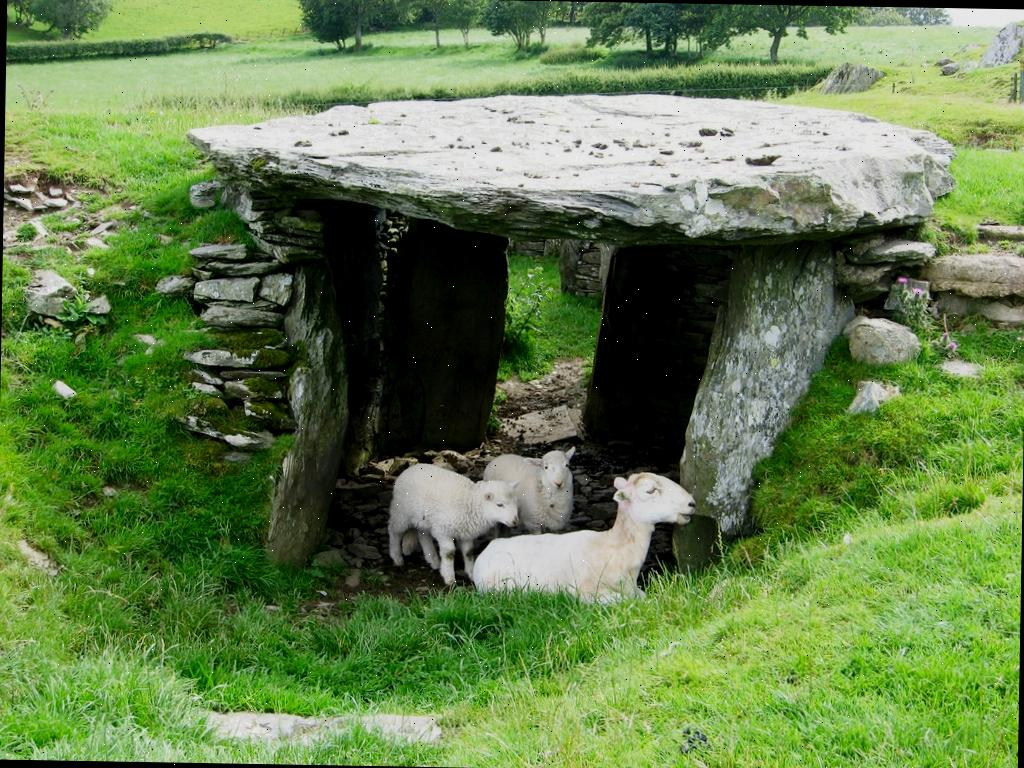Sheep: (469, 464, 706, 626), (386, 460, 520, 592), (480, 446, 572, 534)
